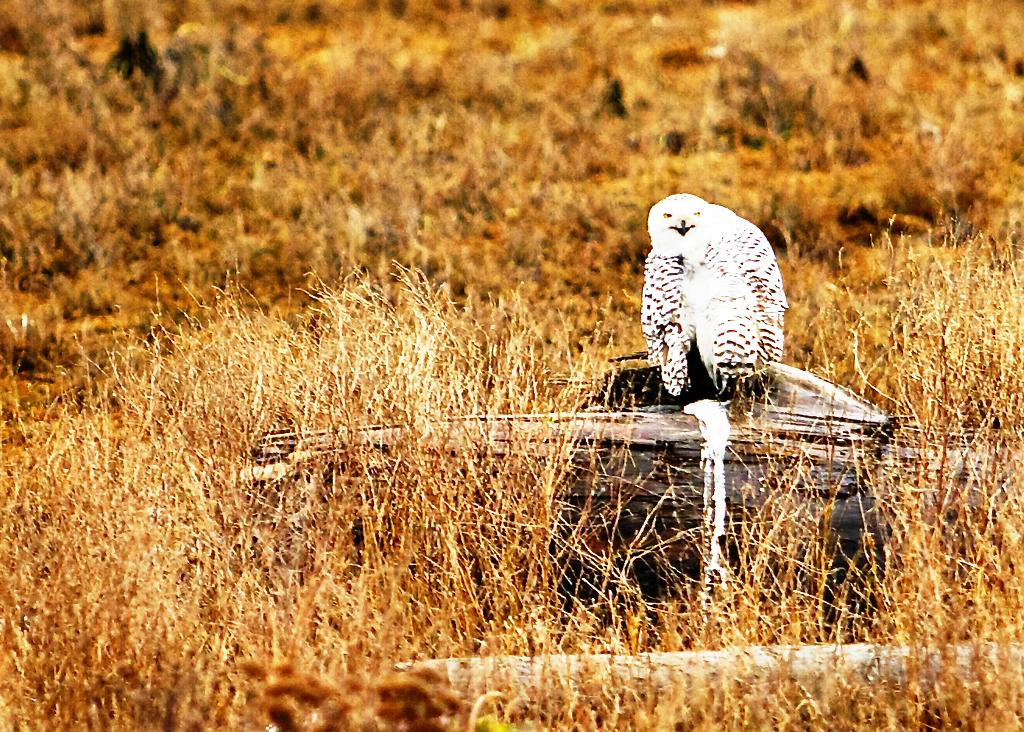Owl: (638, 196, 790, 409)
